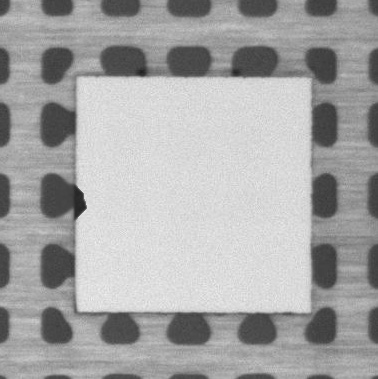DIE_BROKEN: (71, 183, 89, 222)
